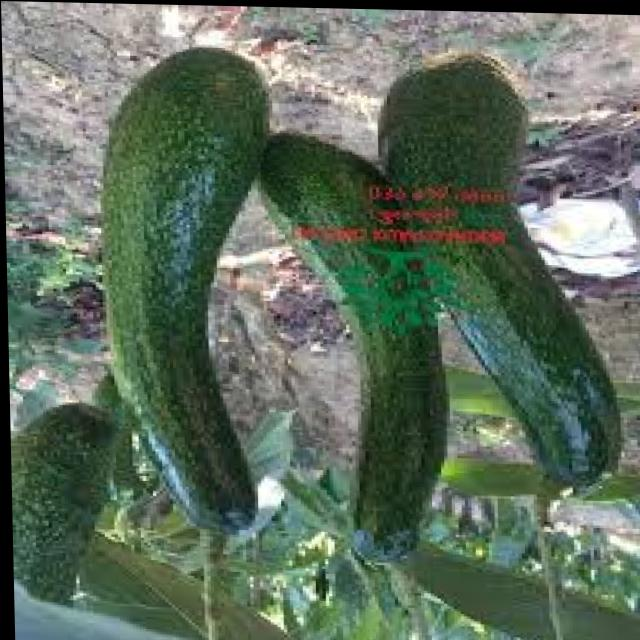Bo: (374, 51, 629, 535), (92, 28, 275, 544), (260, 132, 442, 563), (7, 403, 130, 611)
